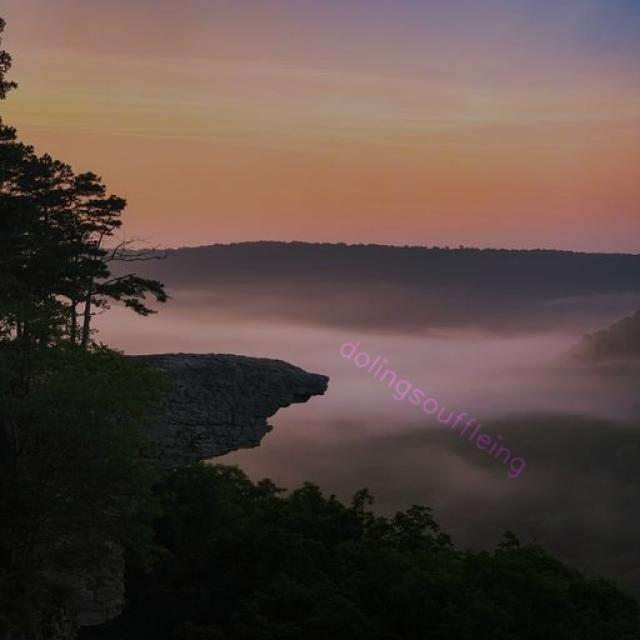watermark: (329, 329, 540, 480)
